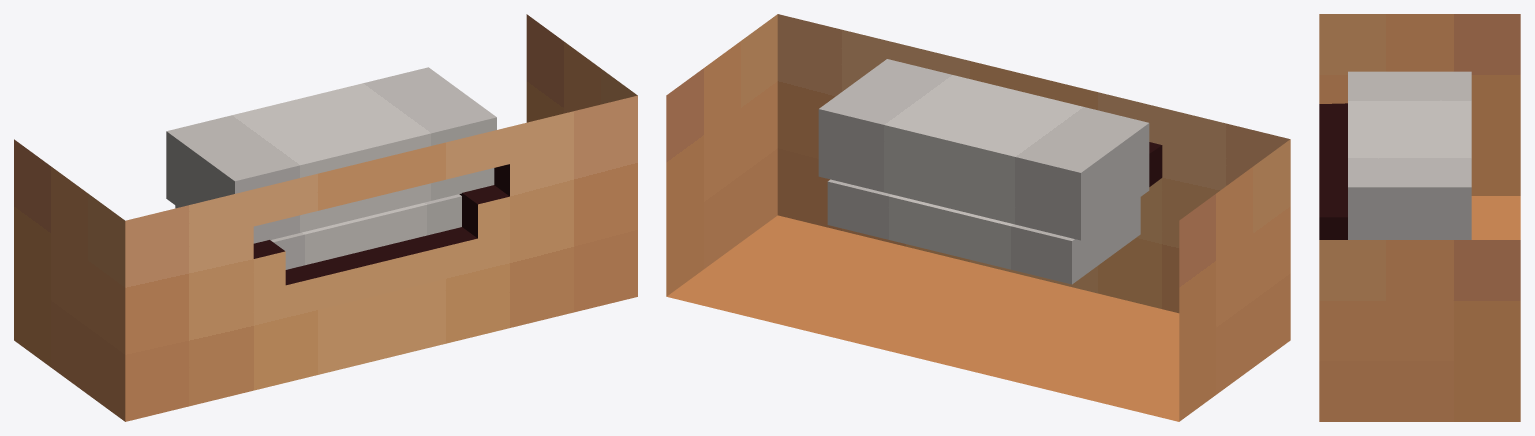
File: skM1_jesse_mouthHappy.glb
3 views of the same model, side by side, from view 1: azimuth 30°, elevation 25°; view 2: azimuth 150°, elevation 25°; view 3: azimuth 270°, elevation 25° (orthographic). The views are drawn at different scales.
Parts seen in each view (by area): view 1: skM1_jesse; view 2: skM1_jesse; view 3: skM1_jesse.
Part boxes in pixels (x1,y1,x2,y2): skM1_jesse: (14, 14, 637, 421); skM1_jesse: (666, 14, 1290, 421); skM1_jesse: (1319, 14, 1520, 421).
Size of the model in its own units: 0.5012 by 0.1883 by 0.1885.
Materials: 1 (1 with a texture image).
